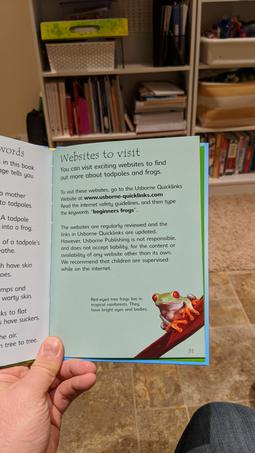text block: (53, 217, 184, 276), (56, 183, 191, 222), (54, 147, 186, 182), (85, 290, 158, 315), (1, 144, 40, 184), (1, 186, 38, 216), (1, 306, 42, 327), (1, 236, 45, 255), (1, 332, 40, 353), (1, 283, 39, 303), (1, 216, 38, 236), (1, 258, 33, 272)
